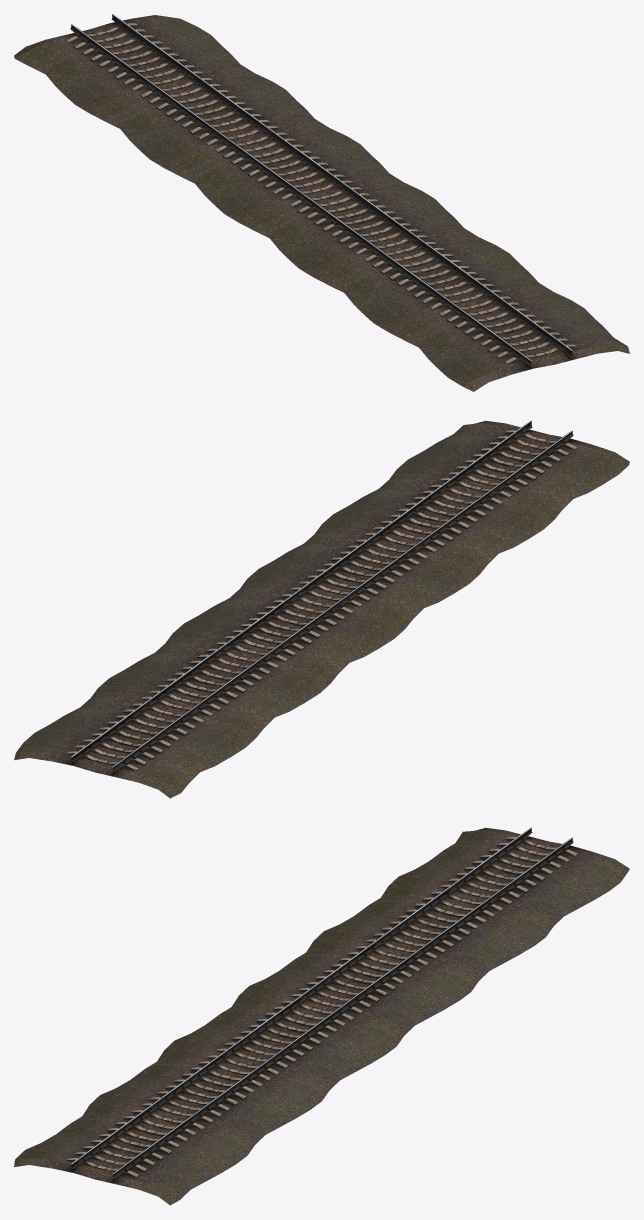
File: 1track_30_TSM.gltf
3 views of the same model, one above another, from view 1: azimuth 30°, elevation 25°; view 2: azimuth 150°, elevation 25°; view 3: azimuth 330°, elevation 25° (orthographic).
Size of the model in its own units: 6.7 by 0.6438 by 30.8.
1 material, 1 textured.
